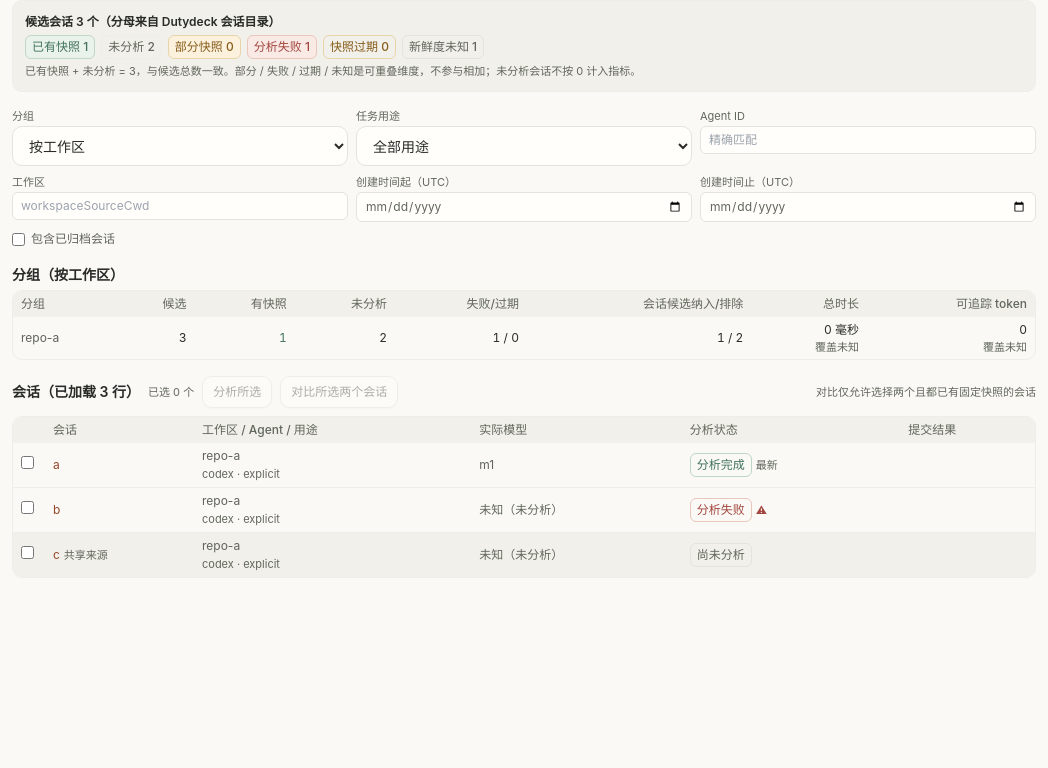
Test: SessionInsightOverview 选择、批量有界提交与对比 › 逐行有界提交：接纳、排队、队列满各自逐行反馈，队列满不影响其他行
Expected: the element named "会话列表" is shown, x1=12 y1=376 x2=1036 y2=578
Click the checkbox named "选择会话 a".
click(28, 462)  # box x1=21 y1=456 x2=34 y2=469
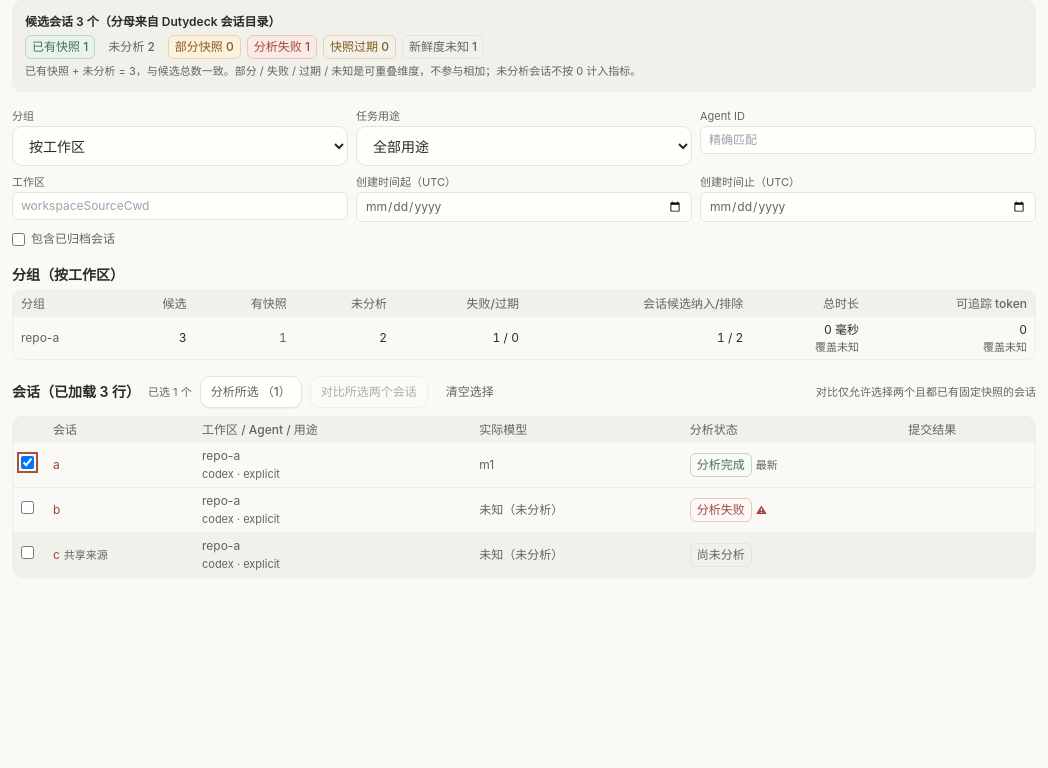
Click the checkbox named "选择会话 b".
click(28, 508)  # box x1=21 y1=501 x2=34 y2=514
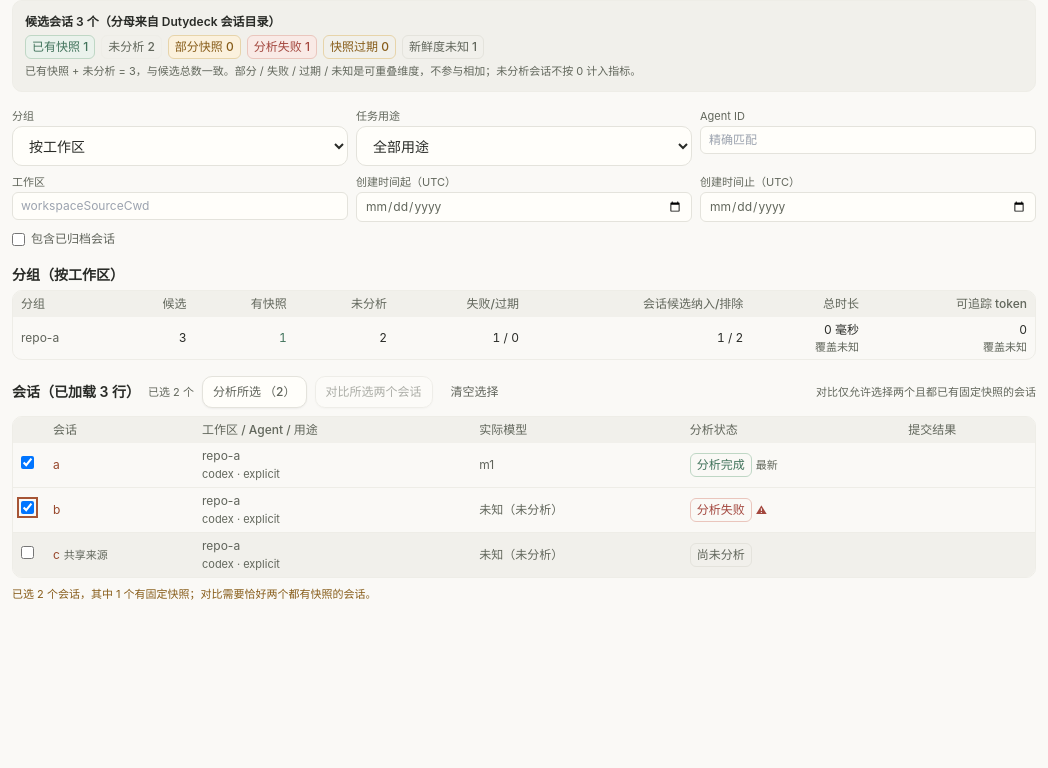
Click the checkbox named "选择会话 c".
click(28, 552)  # box x1=21 y1=546 x2=34 y2=559
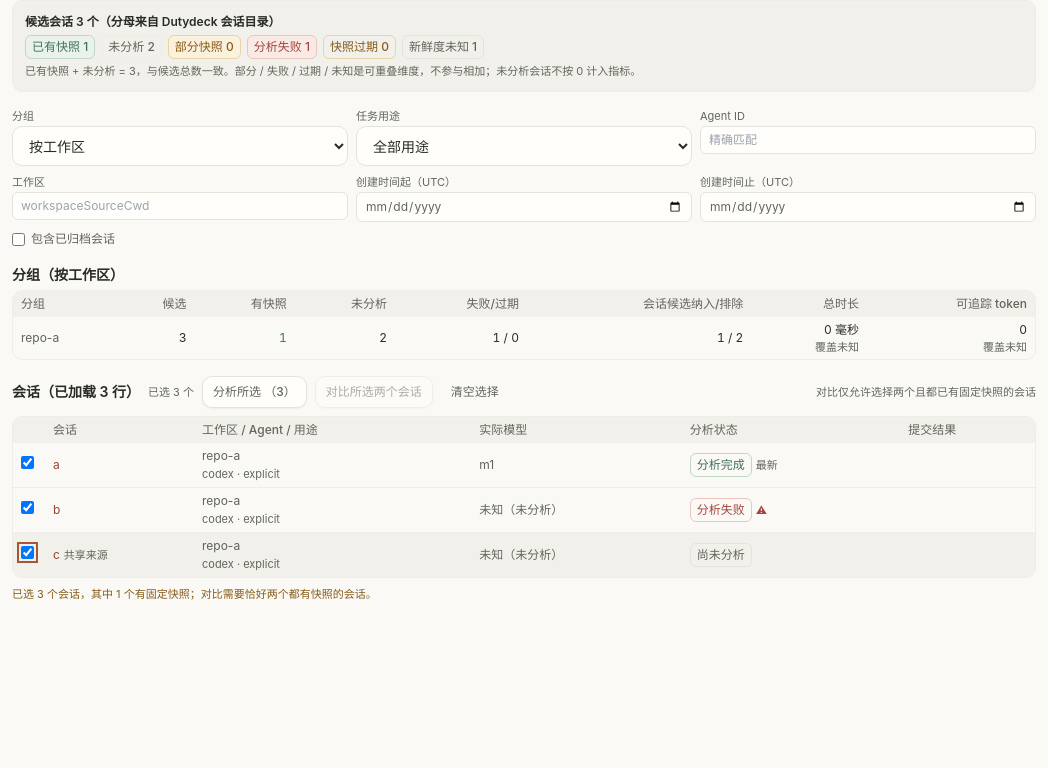
Click the button "分析所选 （3）".
click(254, 392)  # box x1=202 y1=376 x2=307 y2=408
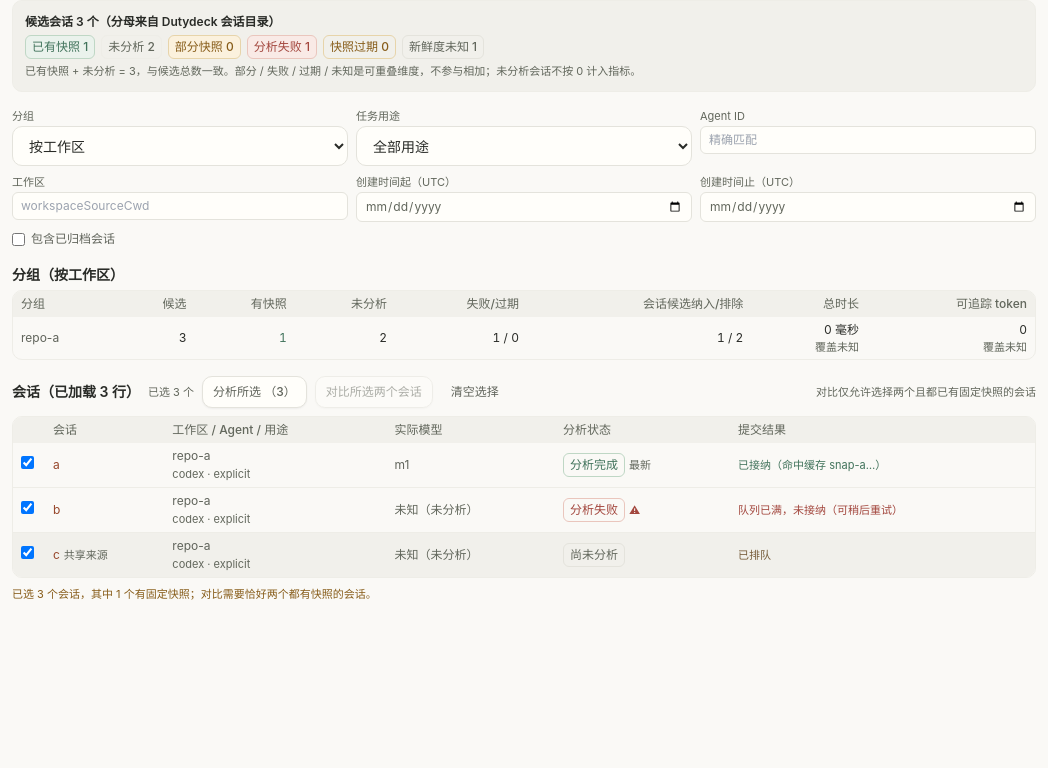
Result: the cell with test id "batch-state-a" shows "已接纳" at x1=738 y1=458 x2=771 y2=472
Result: the cell with test id "batch-state-b" shows "队列已满，未接纳" at x1=738 y1=503 x2=903 y2=517
Result: the cell with test id "batch-state-c" reads "已排队" at x1=738 y1=548 x2=771 y2=562
